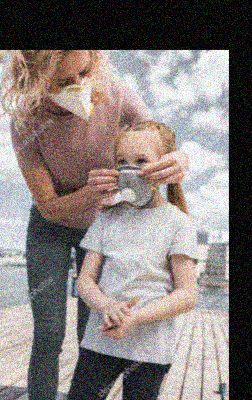with_mask: (48, 58, 93, 124), (114, 149, 158, 207)
